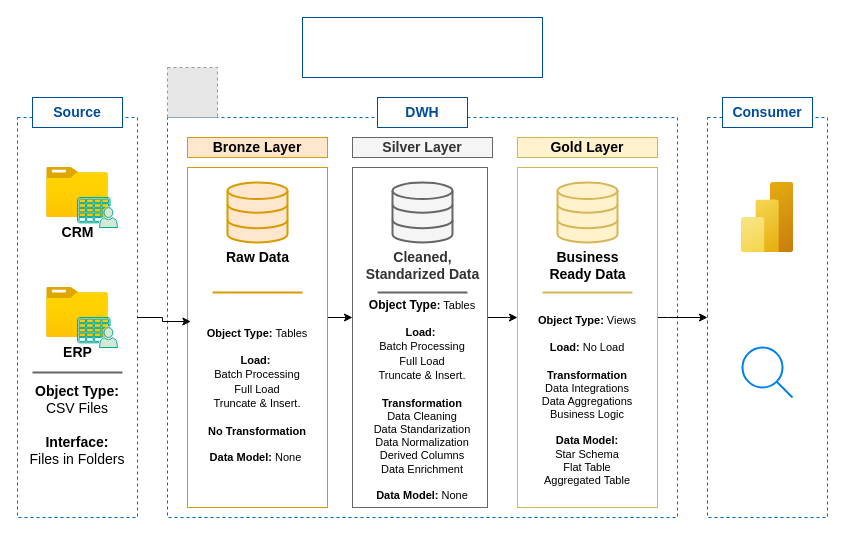
This 845x535 diagram has some shape labels left out. Grey dashed boxes stand in for pictures. The shapes that lost their labels are listed below. From the top down, each one's centre as x and y in pixels, then its label:
the point at 422,47: High Level Architecture
the point at 767,217: BI & Reporting
the point at 767,372: Ad-Hoc SQL Queries
